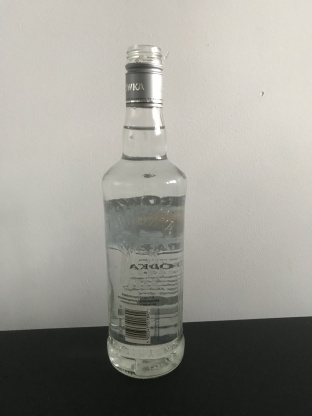nakretka: (123, 43, 165, 109)
